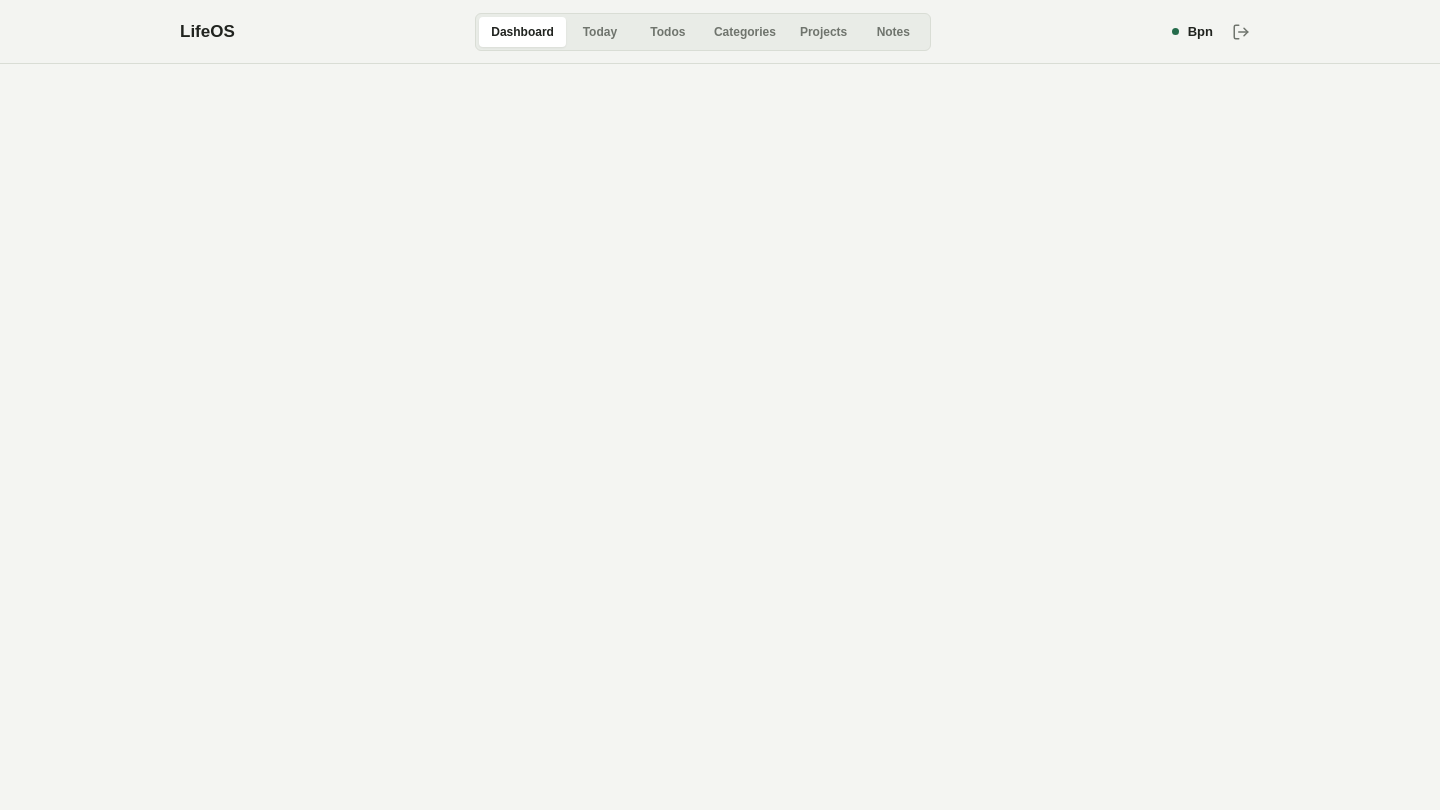
navigates previous, next, direct, and current identity dates without drift
The image size is (1440, 810).
Click the button "Today". click: {"x": 600, "y": 32}
box: top-left (566, 16), bottom-right (634, 46)
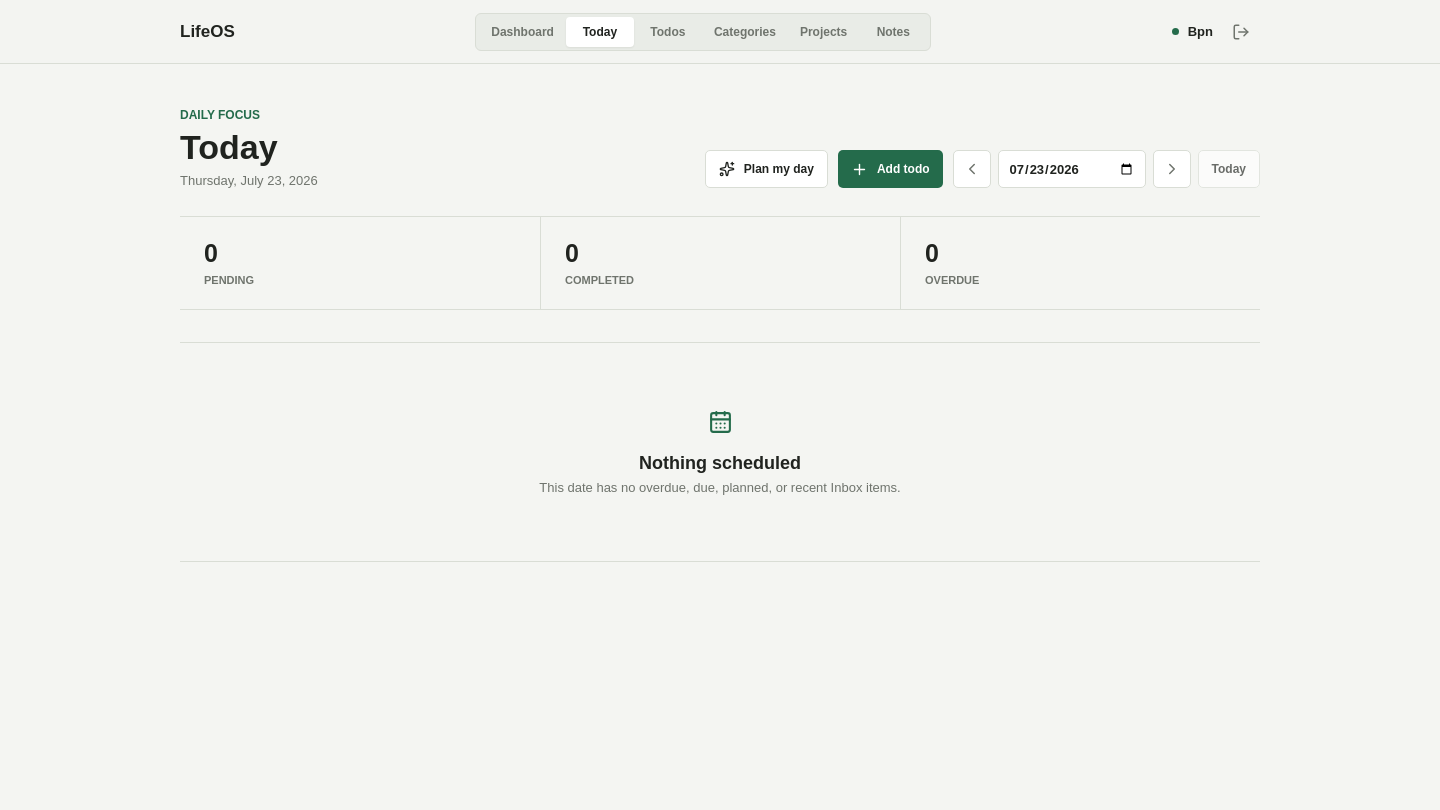
expect the heading "Nothing scheduled" is shown: met, box top-left (639, 452), bottom-right (801, 474)
Click the button named "Previous date". click: {"x": 972, "y": 169}
box: top-left (952, 150), bottom-right (990, 188)
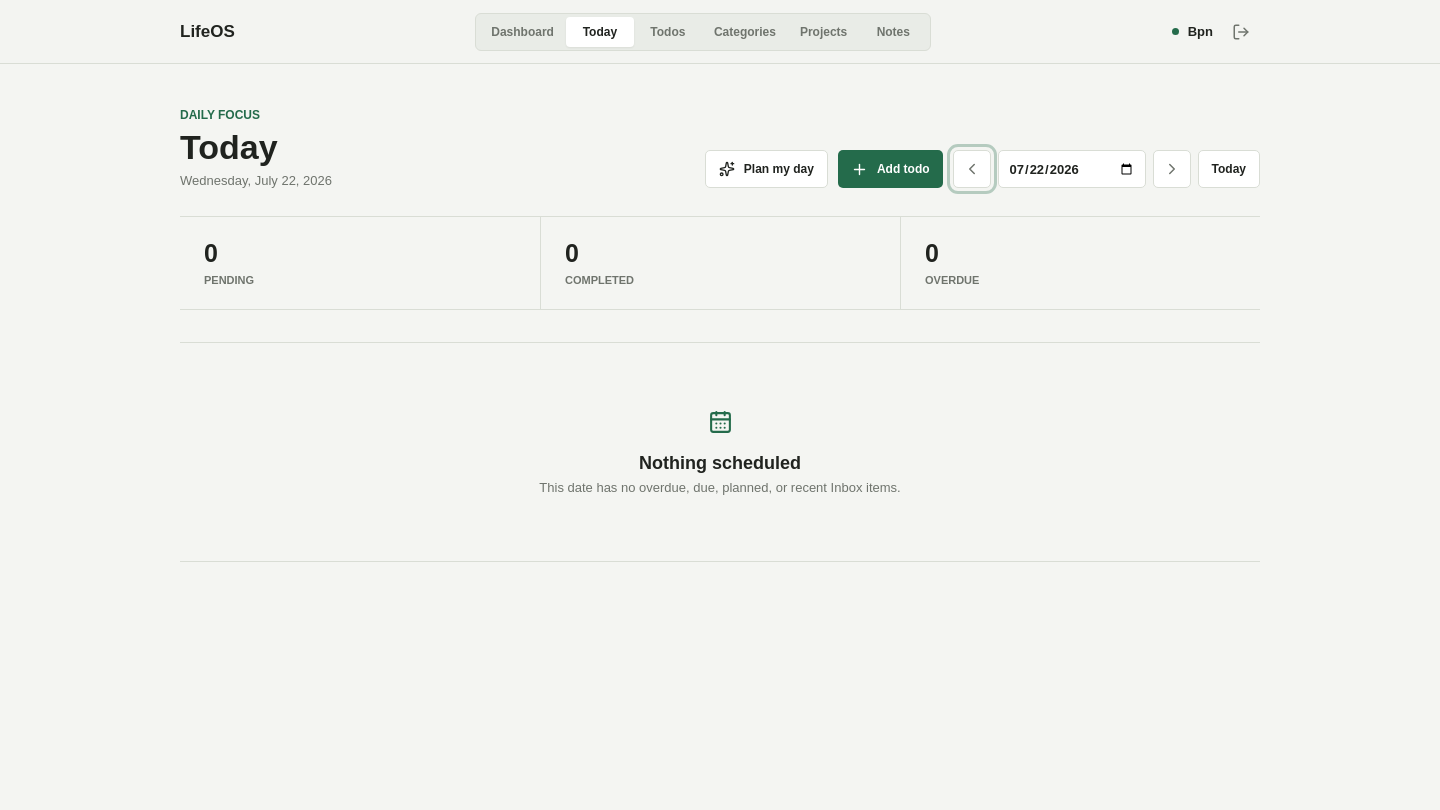
expect the date field named "Selected date" holds "2026-07-22": met, box top-left (998, 150), bottom-right (1146, 188)
Click the button named "Next date". click: {"x": 1172, "y": 169}
box: top-left (1152, 150), bottom-right (1190, 188)
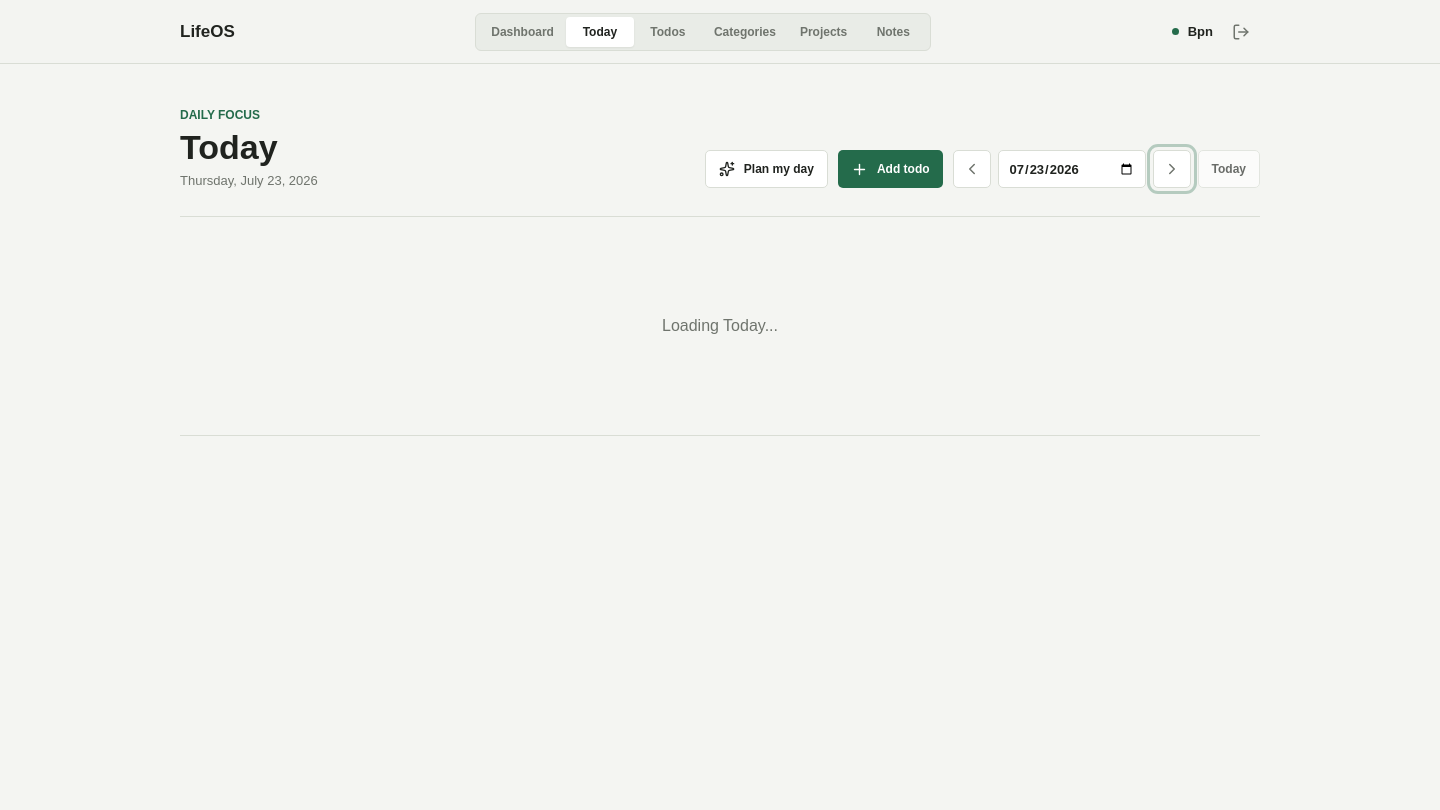
Type "2026-08-01" into the date field named "Selected date". click: {"x": 1072, "y": 169}
box: top-left (998, 150), bottom-right (1146, 188)
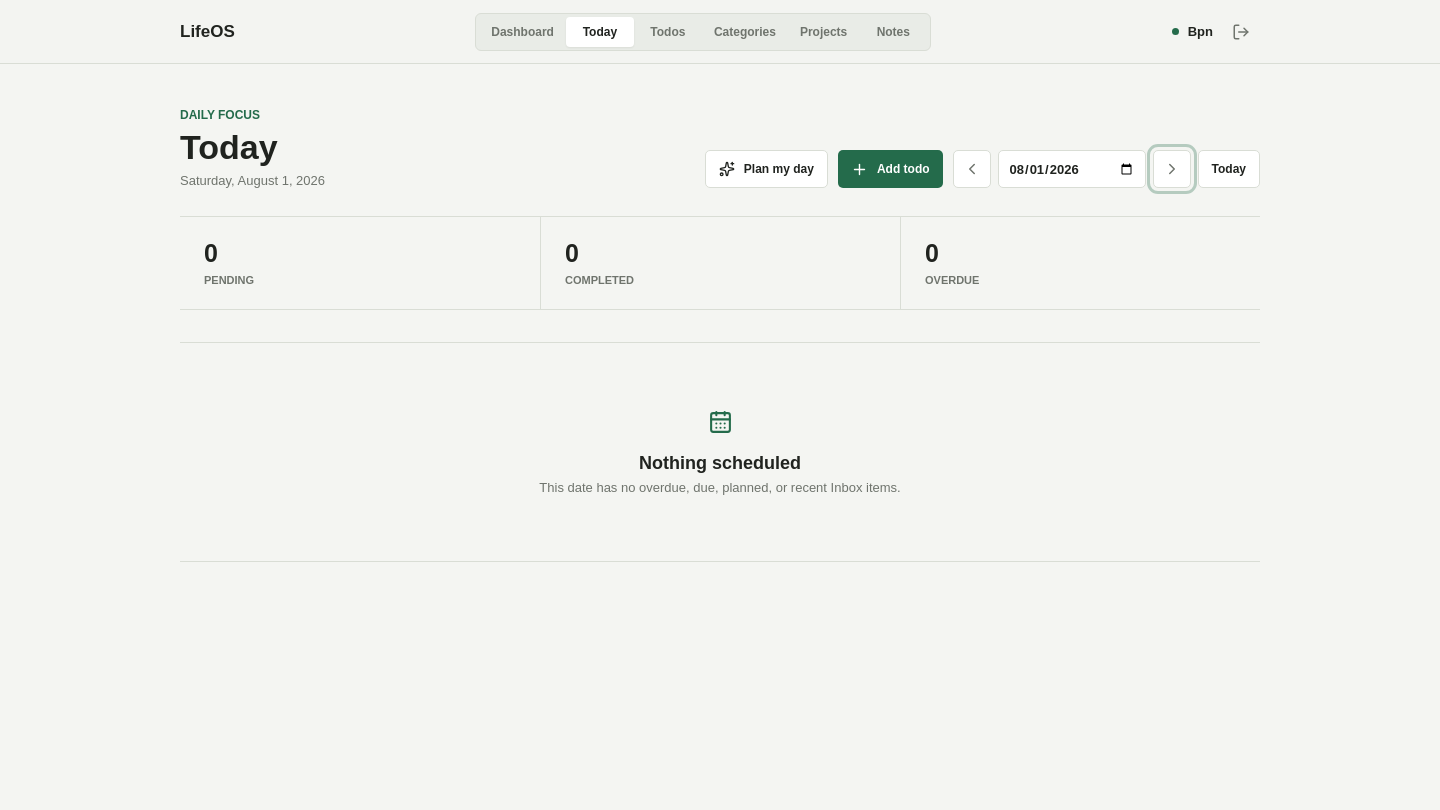
Click the button with aria-label "Return to today". click: {"x": 1229, "y": 169}
box: top-left (1198, 150), bottom-right (1260, 188)
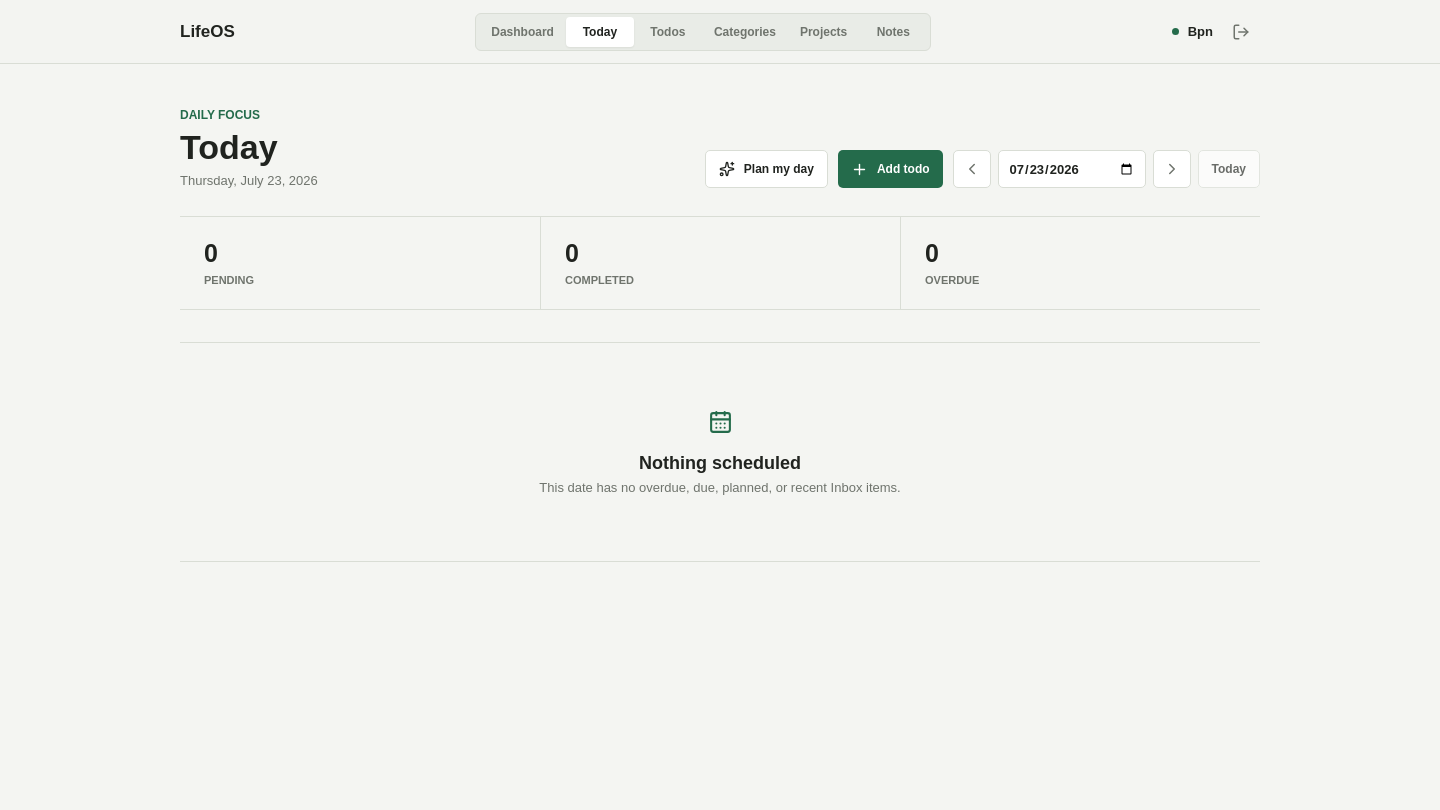
expect the date field named "Selected date" holds "2026-07-23": met, box top-left (998, 150), bottom-right (1146, 188)
